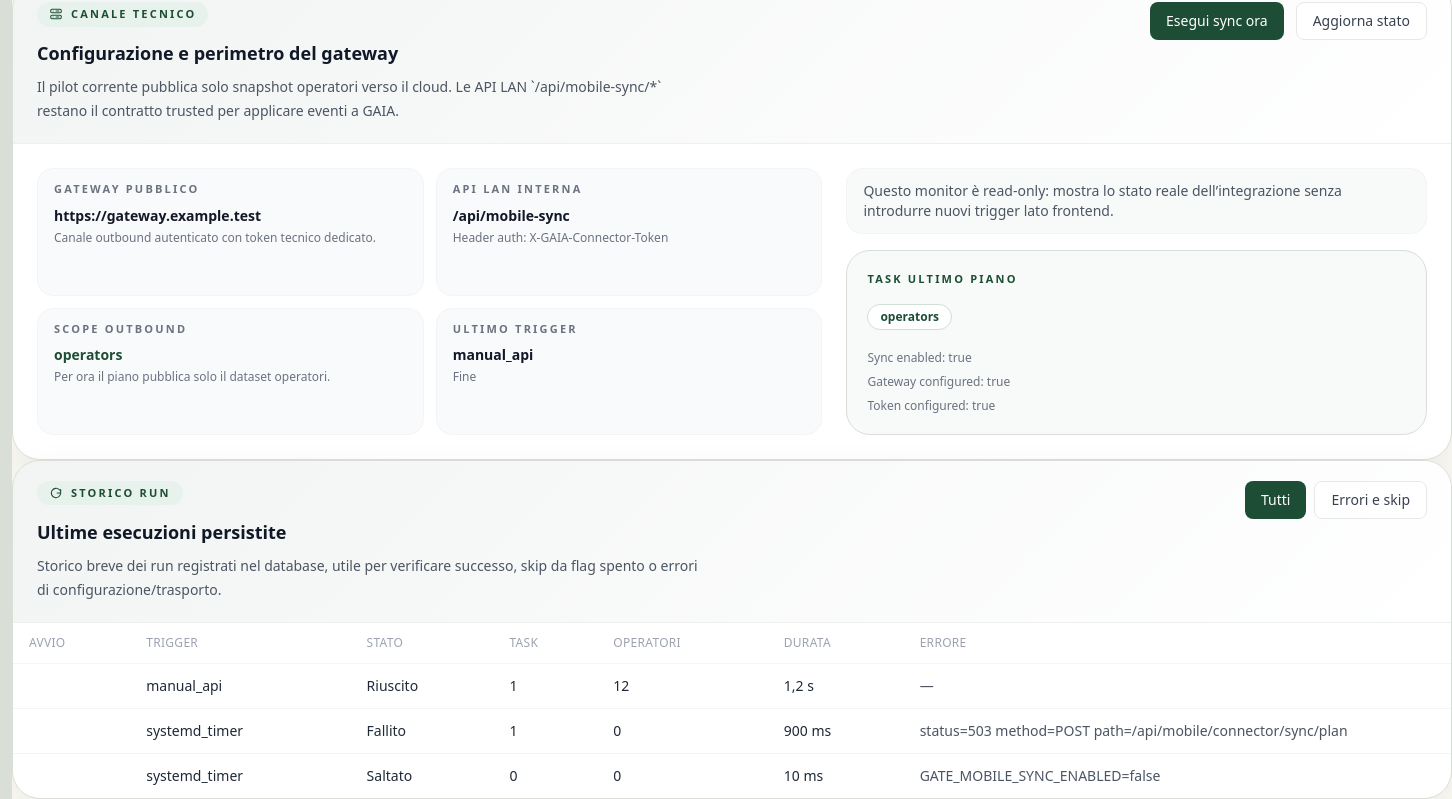
Test case: ElaborazioniGaiaMobileSyncWorkspace › filters history to failed and skipped runs
(page scrolled)
Expected: the text "Storico run" is shown, [37,481,183,505]
Click the button "Errori e skip": [1371, 500] box [1314,481,1427,519]
(page scrolled)
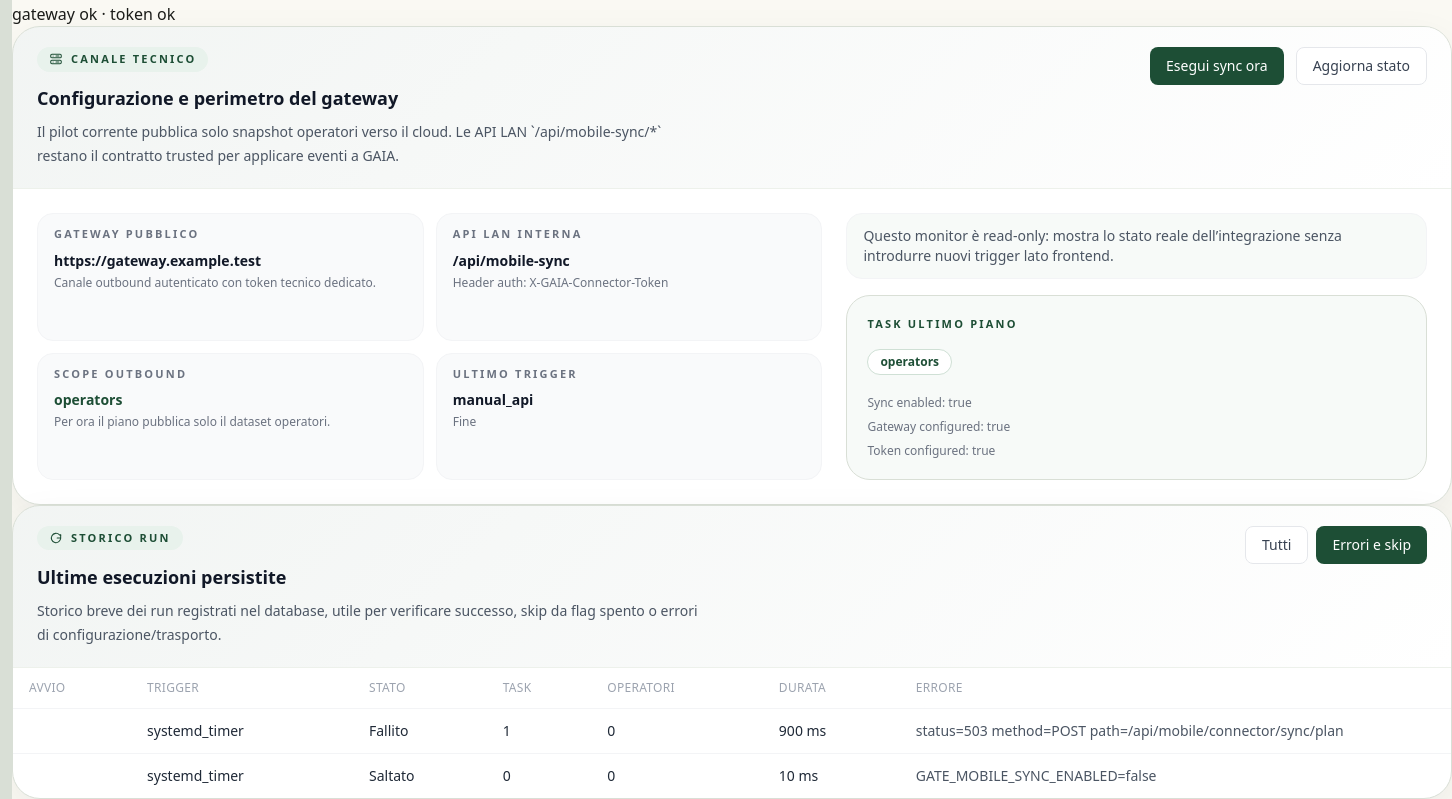
Expected: the text "Fallito" is shown, [353,709,487,754]
Now the text "systemd_timer" is shown 2 times, box [131,709,353,754]; [131,754,353,798]
